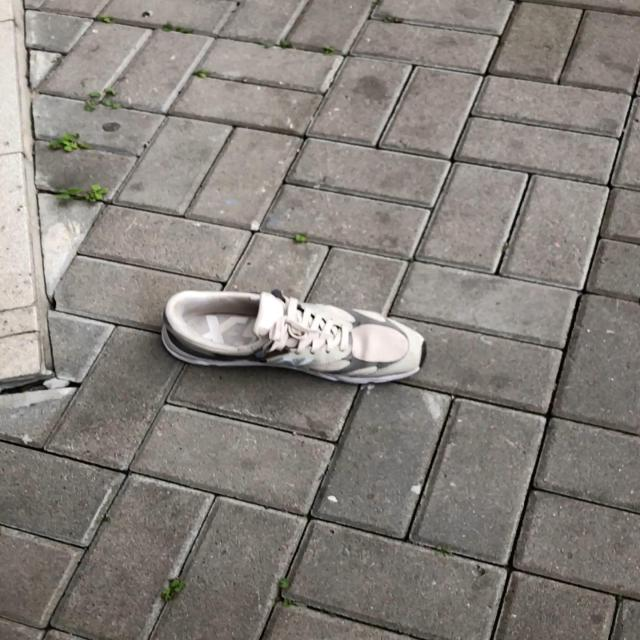shoe: (161, 291, 426, 386)
